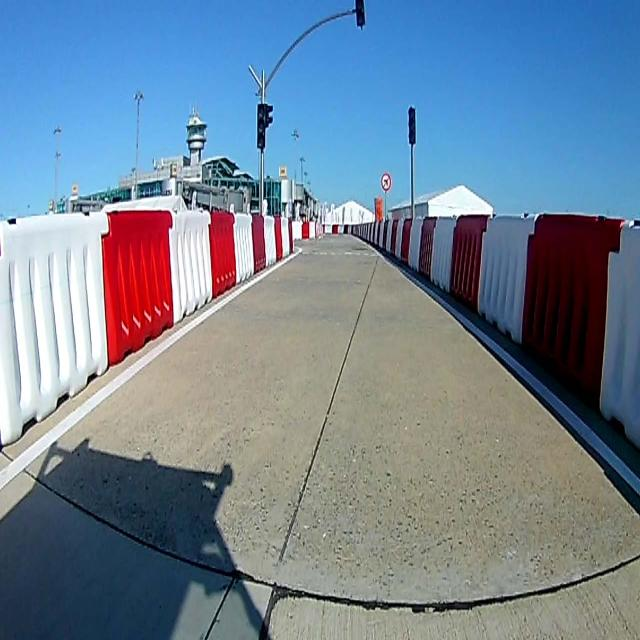soladonulmez: (380, 171, 392, 192)
